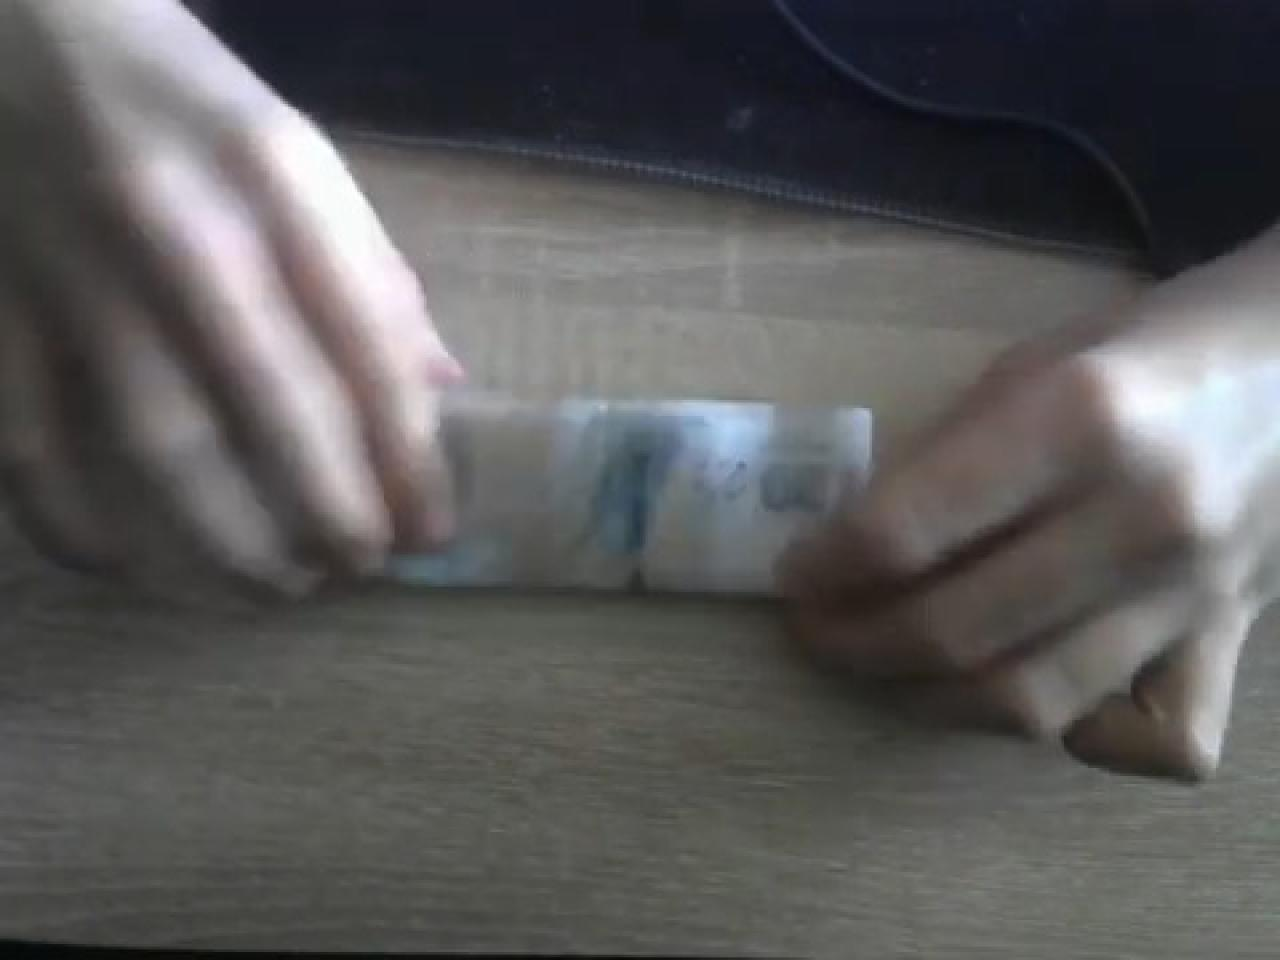20leva: (392, 394, 875, 600)
